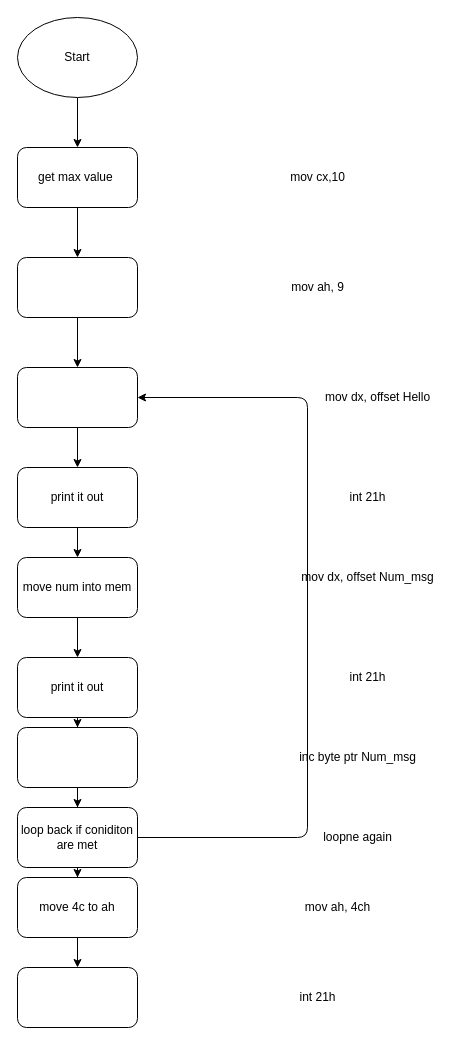
The diagram is 460 pixels wide and 1045 high, and some of its shapes have lost their labels. The centre of each missing label's shape, as x and y in pixels:
End: point 77,997
get command to print: point 77,287
increment the number by 1: point 77,757
move quote into mem: point 77,397
